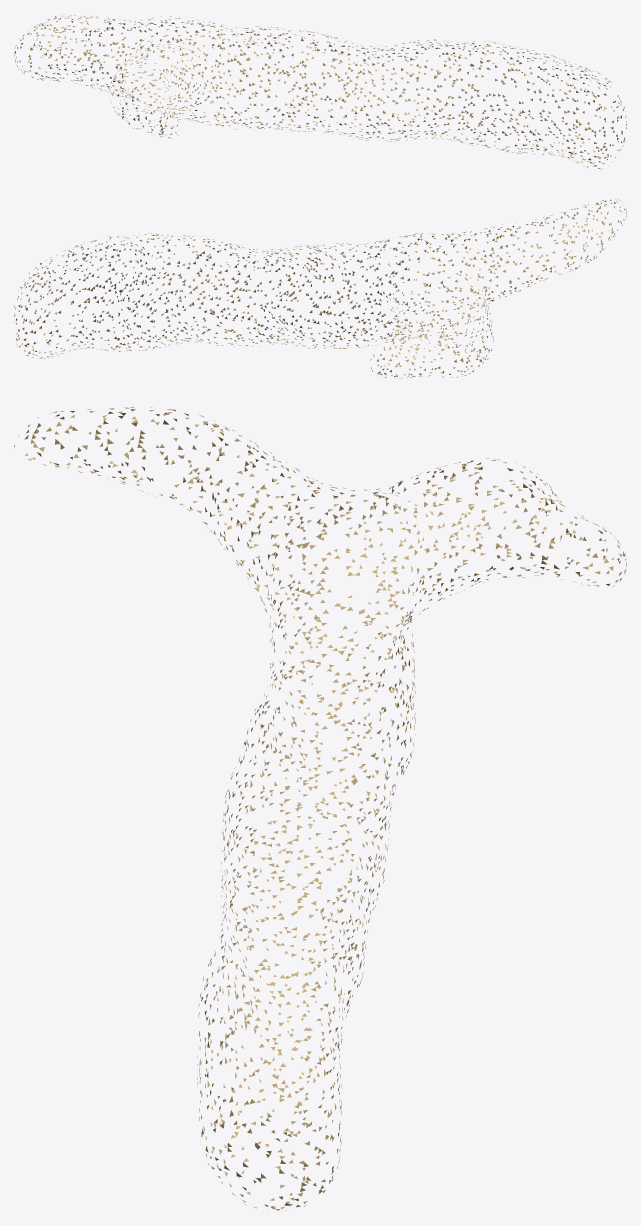
The model's file is morph_007.glb.
The picture shows the model from 3 angles, top to bottom: view 1: azimuth 30°, elevation 25°; view 2: azimuth 150°, elevation 25°; view 3: azimuth 270°, elevation 25°; orthographic projection. The views are drawn at different scales.
Size of the model in its own units: 128 by 53.46 by 75.13.
